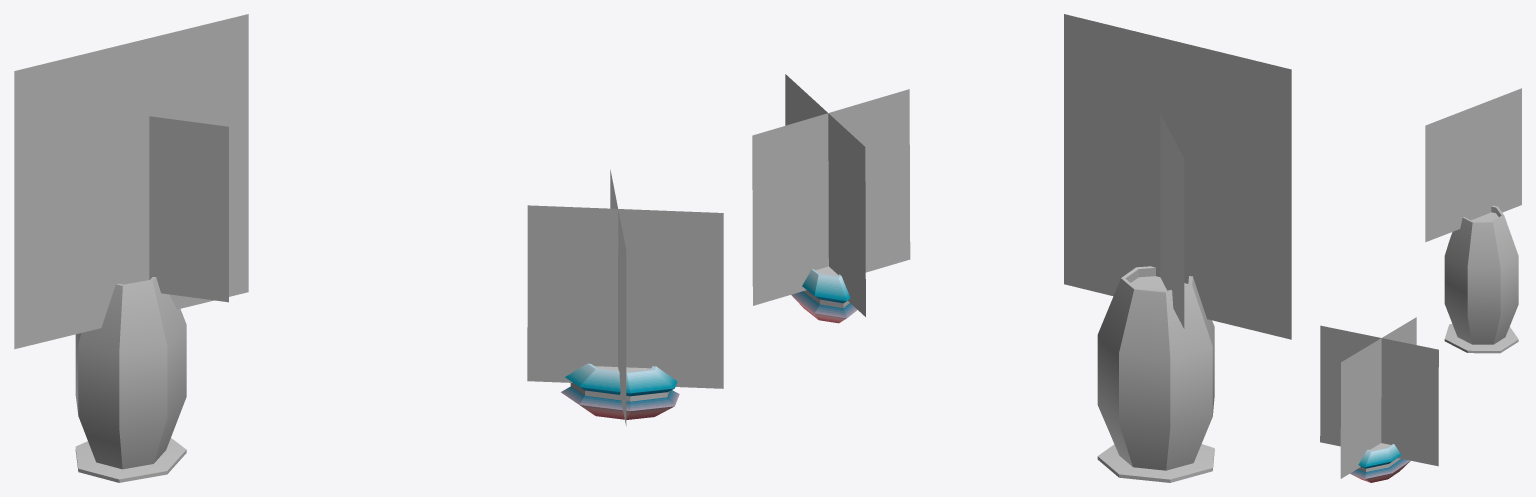
File: vase.obj
3 views of the same model, side by side, from view 1: azimuth 30°, elevation 25°; view 2: azimuth 150°, elevation 25°; view 3: azimuth 270°, elevation 25° (orthographic). The views are drawn at different scales.
Visible parts, largest first — view 1: Deco_01.009; view 2: Deco_01.009; view 3: Deco_01.009.
Part boxes in pixels (x1,y1,x2,y2): Deco_01.009: (14,14,723,482); Deco_01.009: (752,14,1291,482); Deco_01.009: (1320,88,1521,482).
Size of the model in its own units: 2.92 by 1.93 by 1.24.
